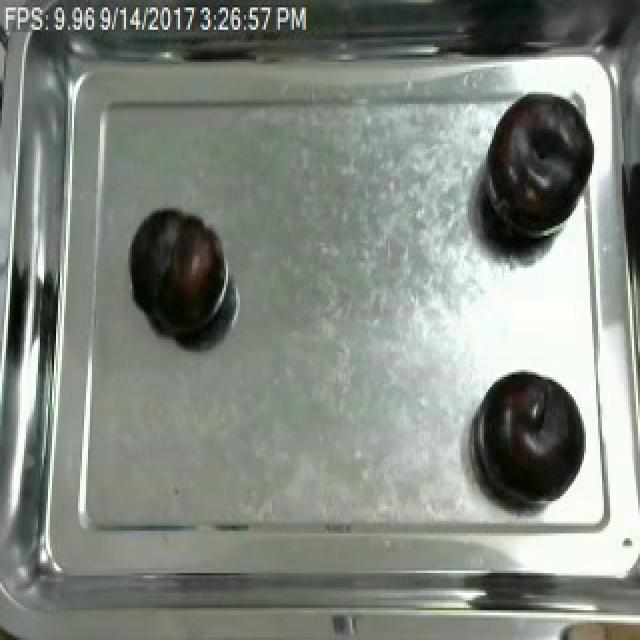Fruit: (474, 82, 600, 253), (472, 367, 584, 504), (128, 206, 228, 340), (550, 603, 640, 640)
